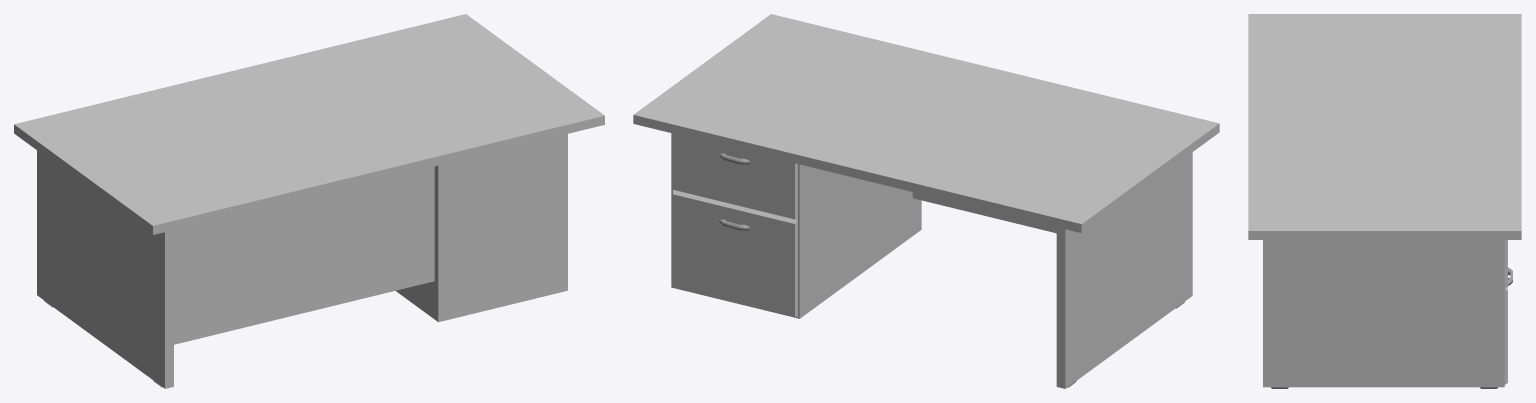
The model's file is OfficeTable.fbx.
3 views of the same model, side by side, from view 1: azimuth 30°, elevation 25°; view 2: azimuth 150°, elevation 25°; view 3: azimuth 270°, elevation 25° (orthographic).
Parts seen in each view (by area): view 1: Officetable; view 2: Officetable; view 3: Officetable.
Boxes of the visible parts, <box> form: Officetable: <box>14,14,604,388</box>; Officetable: <box>633,14,1219,388</box>; Officetable: <box>1248,14,1521,388</box>.
Bounding box in the file's own units: 2.66 × 0.9917 × 1.41.
